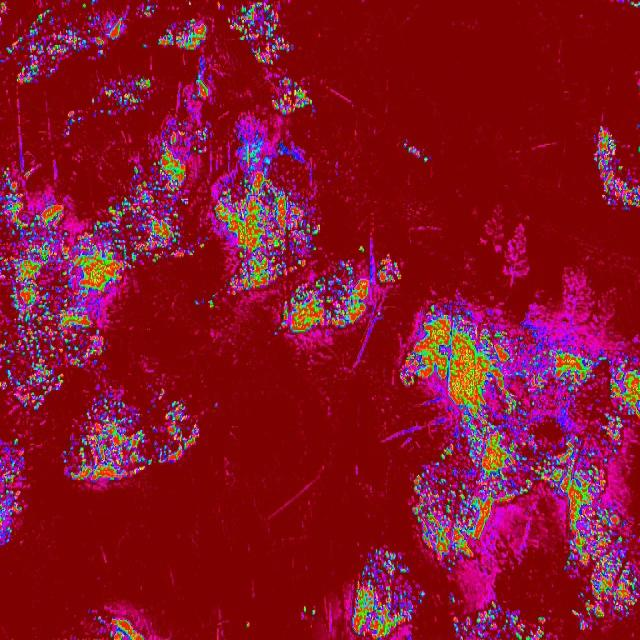fire: (412, 391, 566, 565), (567, 333, 640, 633), (214, 126, 324, 292), (1, 164, 64, 412), (397, 304, 568, 390), (64, 200, 112, 366), (62, 393, 150, 482), (114, 180, 194, 268), (0, 2, 73, 87), (351, 545, 412, 640), (227, 0, 294, 69), (276, 289, 370, 337), (150, 387, 202, 471), (592, 123, 640, 213), (448, 601, 547, 640), (0, 436, 28, 550), (74, 0, 128, 56), (94, 76, 152, 118), (159, 116, 210, 152), (132, 149, 191, 179), (159, 17, 210, 51), (270, 77, 314, 115), (324, 258, 370, 290), (93, 614, 148, 640), (188, 55, 212, 99), (401, 135, 429, 165), (376, 254, 402, 284), (64, 106, 80, 136), (195, 293, 219, 311), (137, 0, 157, 20), (300, 603, 318, 618), (627, 0, 640, 11), (418, 589, 424, 606), (377, 311, 384, 325), (140, 41, 148, 50), (358, 244, 365, 253), (200, 241, 206, 251), (447, 566, 452, 574), (188, 0, 192, 8), (246, 621, 250, 628), (450, 596, 456, 600)
